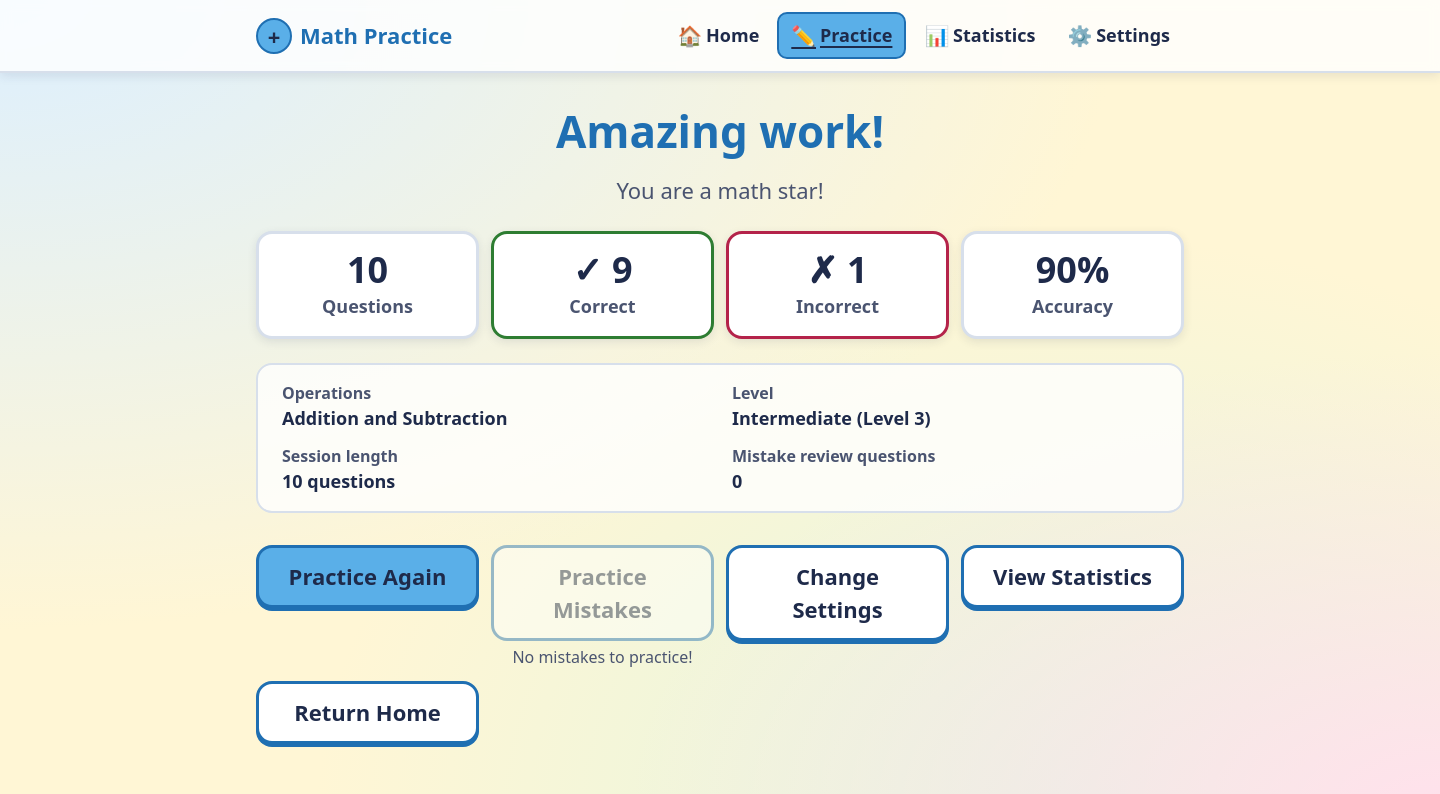
Test: SessionSummaryPage › actions › Practice Again starts a new session with the same settings
This screenshot has width=1440, height=794.
Click the button "Practice Again" at (368, 577), box [256, 545, 479, 608]
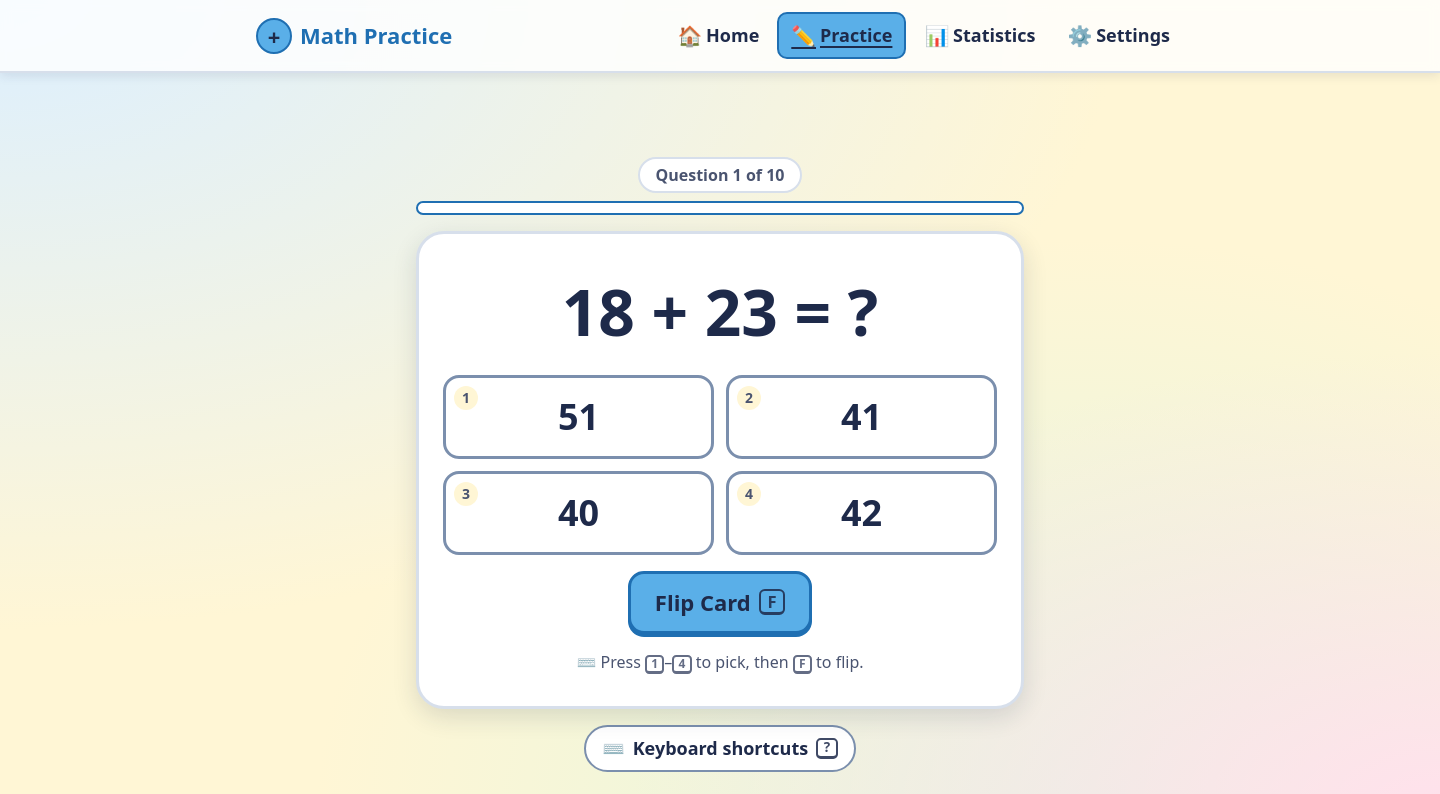
Result: the text "Question 1 of 10" is shown at [638, 157, 802, 193]
Result: the heading "18 + 23 = ?" is shown at [562, 274, 878, 351]
